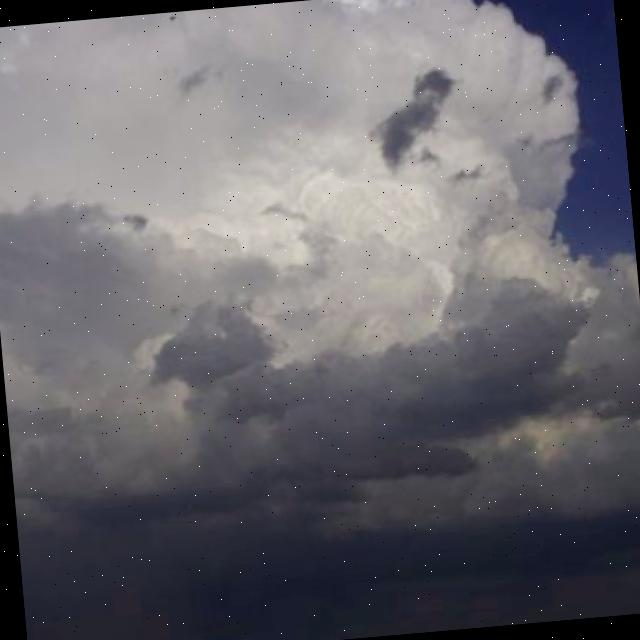Cb: (1, 1, 640, 533)
